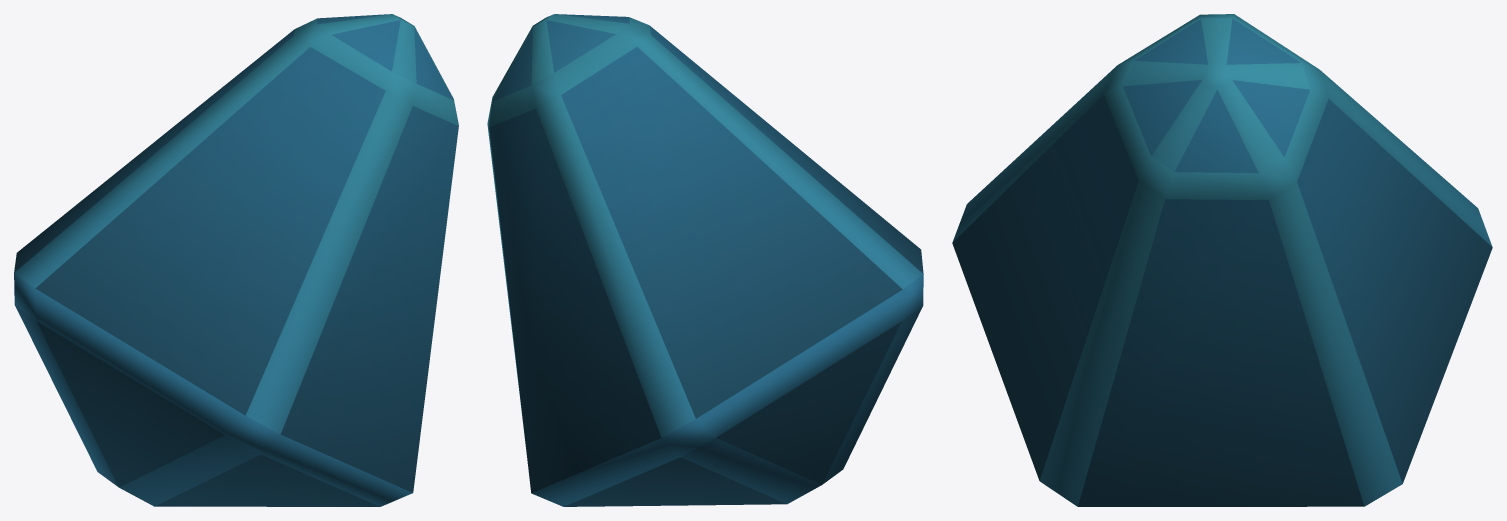
The model's file is christal_saphire_7.fbx.
3 renders of one model, left to right at view 1: azimuth 30°, elevation 25°; view 2: azimuth 150°, elevation 25°; view 3: azimuth 270°, elevation 25°, orthographic. The views are drawn at different scales.
Parts seen in each view (by area): view 1: christal_saphire_7; view 2: christal_saphire_7; view 3: christal_saphire_7.
Boxes of the visible parts, box(x1,y1,x2,y2) form: christal_saphire_7: box(14, 14, 458, 506); christal_saphire_7: box(487, 14, 923, 506); christal_saphire_7: box(952, 14, 1492, 506).
Bounding box in the file's own units: 47.99 × 48.58 × 48.9.
Materials: 1 (1 with a texture image).
